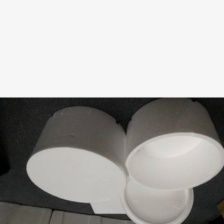foam_box: (22, 102, 126, 205), (124, 97, 224, 192), (116, 171, 198, 224), (88, 194, 130, 217)
